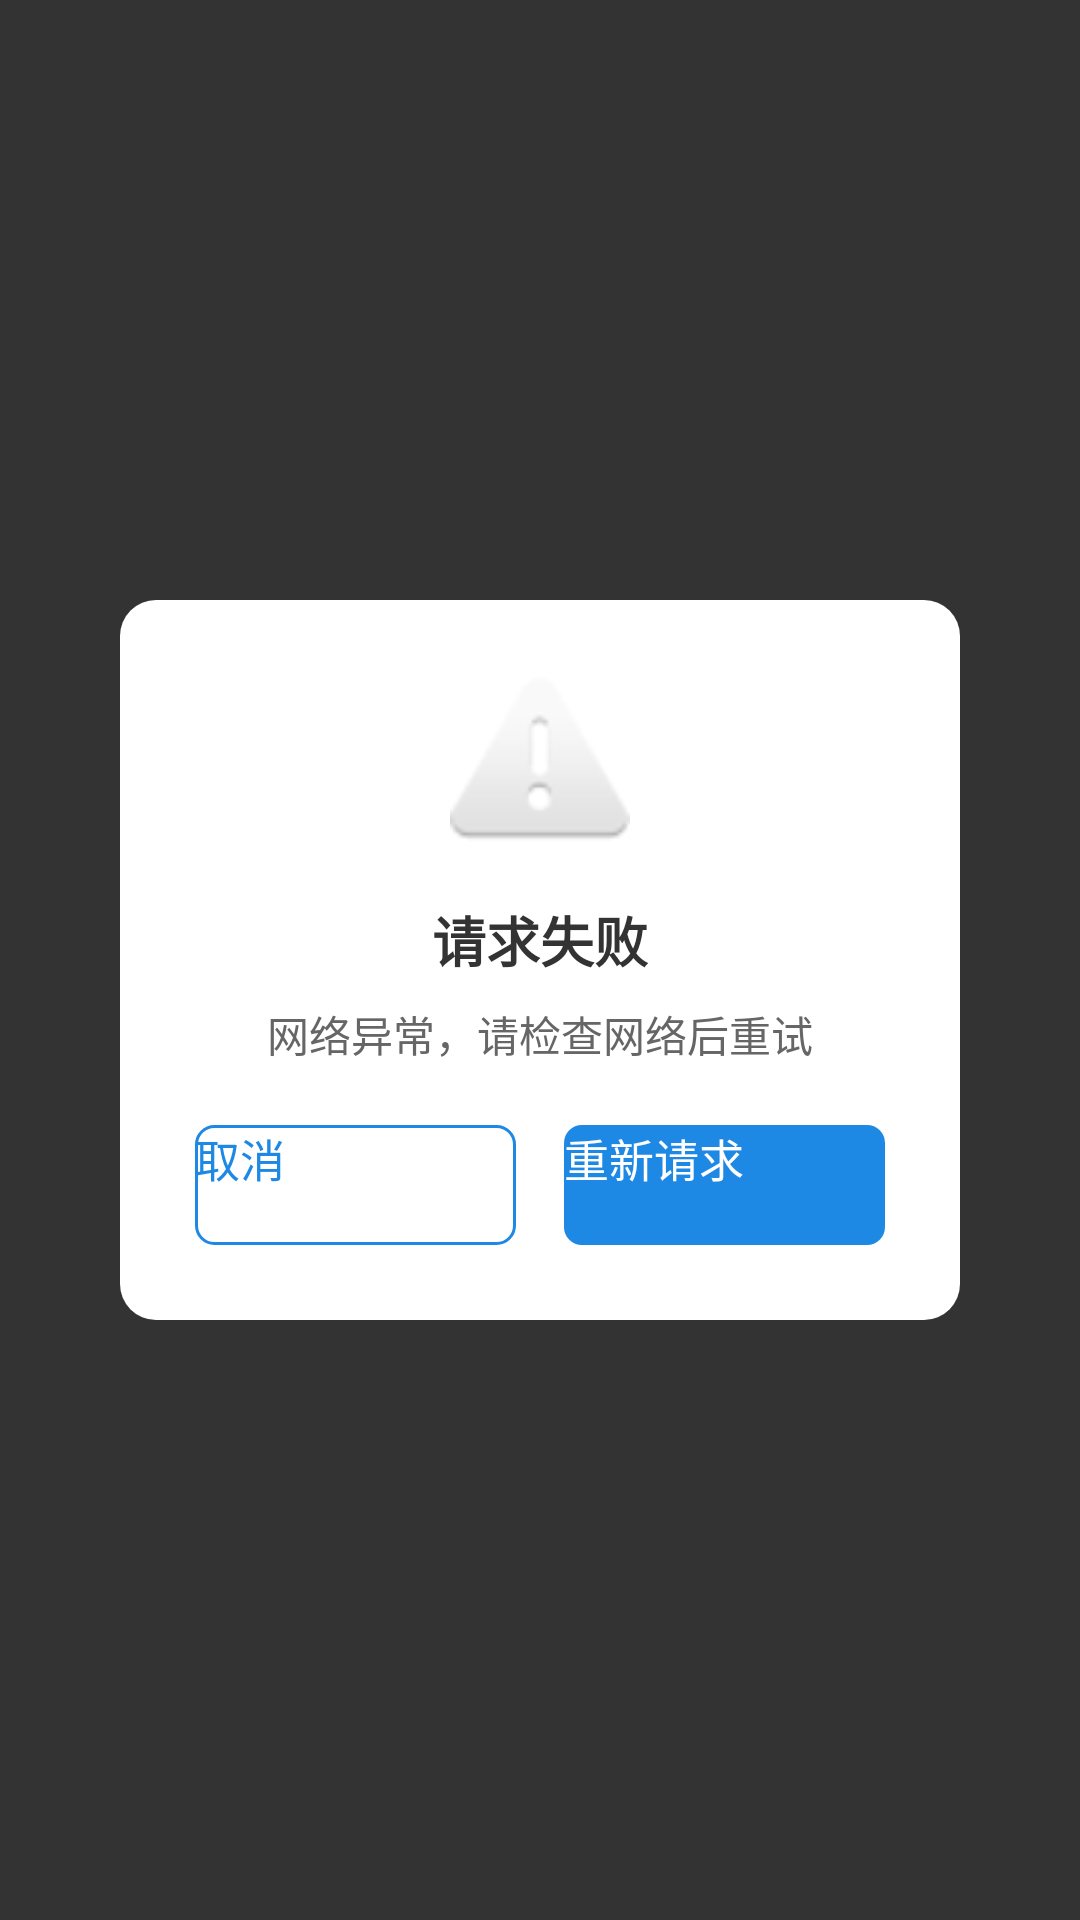

Named icons in this screenshot (1080px×1920px) and their bounding boxes, Rect(x1, y1, x2, y2):
alert: Rect(450, 717, 630, 838)
